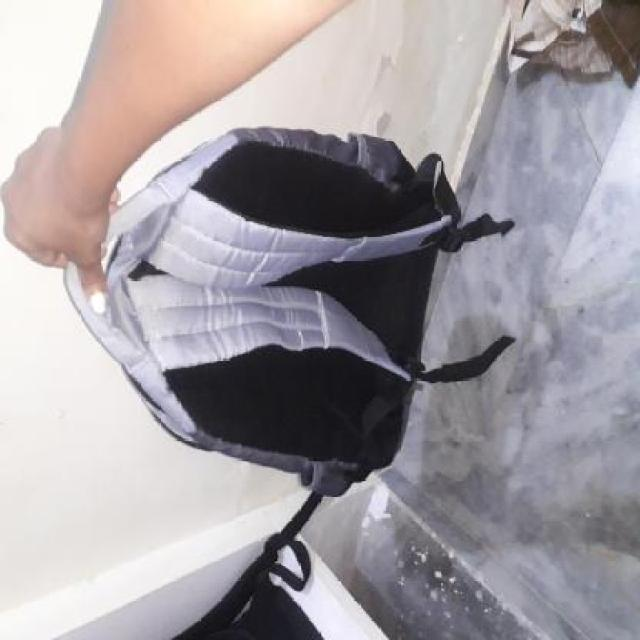backpack: (55, 123, 472, 505)
